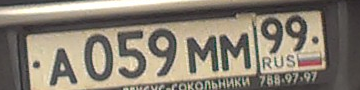character: (145, 27, 181, 77), (82, 32, 115, 83), (116, 28, 148, 80), (218, 30, 254, 73), (185, 34, 221, 76), (47, 46, 80, 87), (258, 14, 284, 55), (284, 14, 309, 54)
